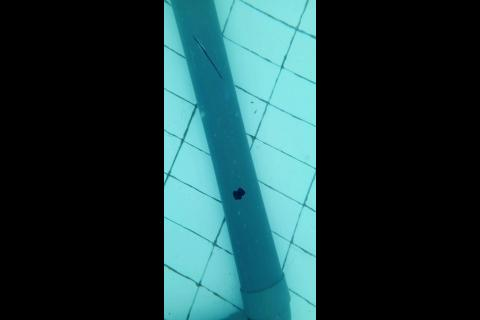kebocoran: (232, 185, 246, 201)
keretakan: (192, 35, 223, 79)
